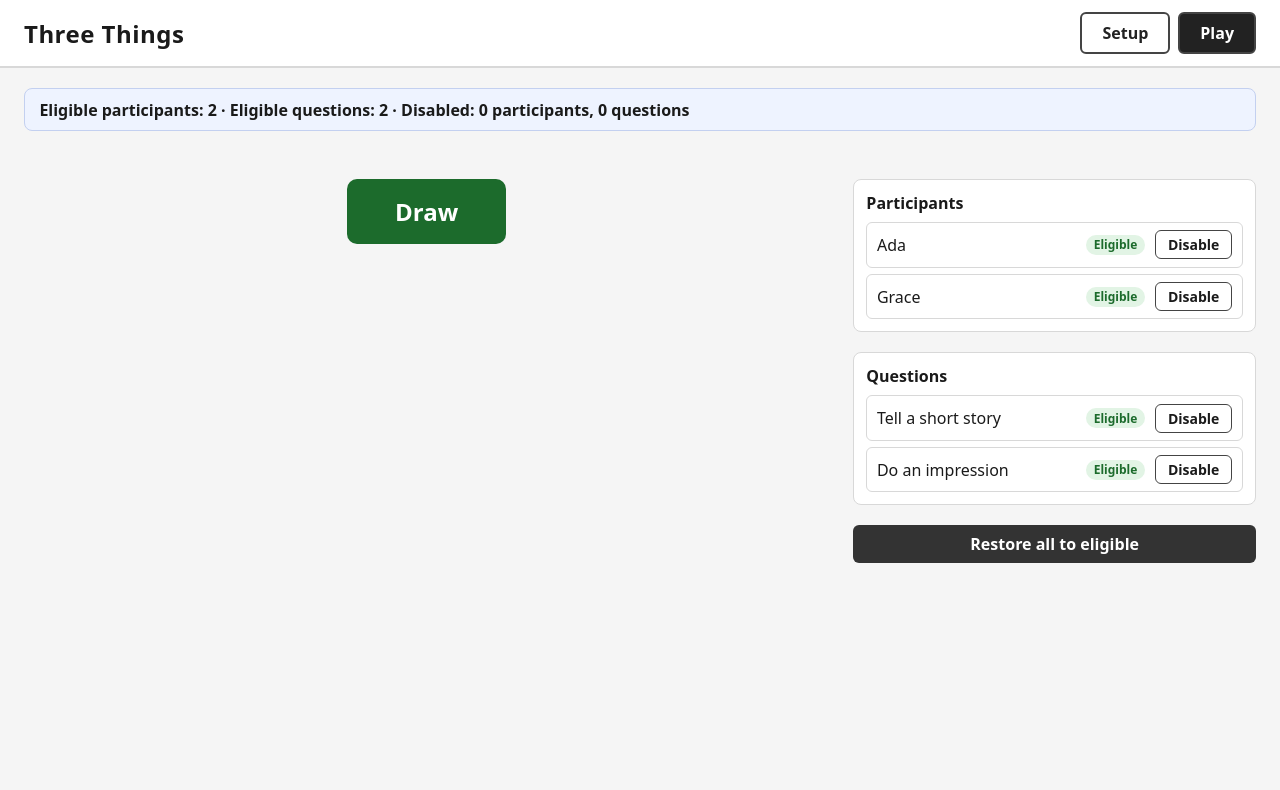
Test case: timing settings flow › rejects an out-of-range animation time and keeps the last valid value (V4, FR-006)
Click the button "Setup" at (1125, 33), box [1080, 12, 1170, 54]
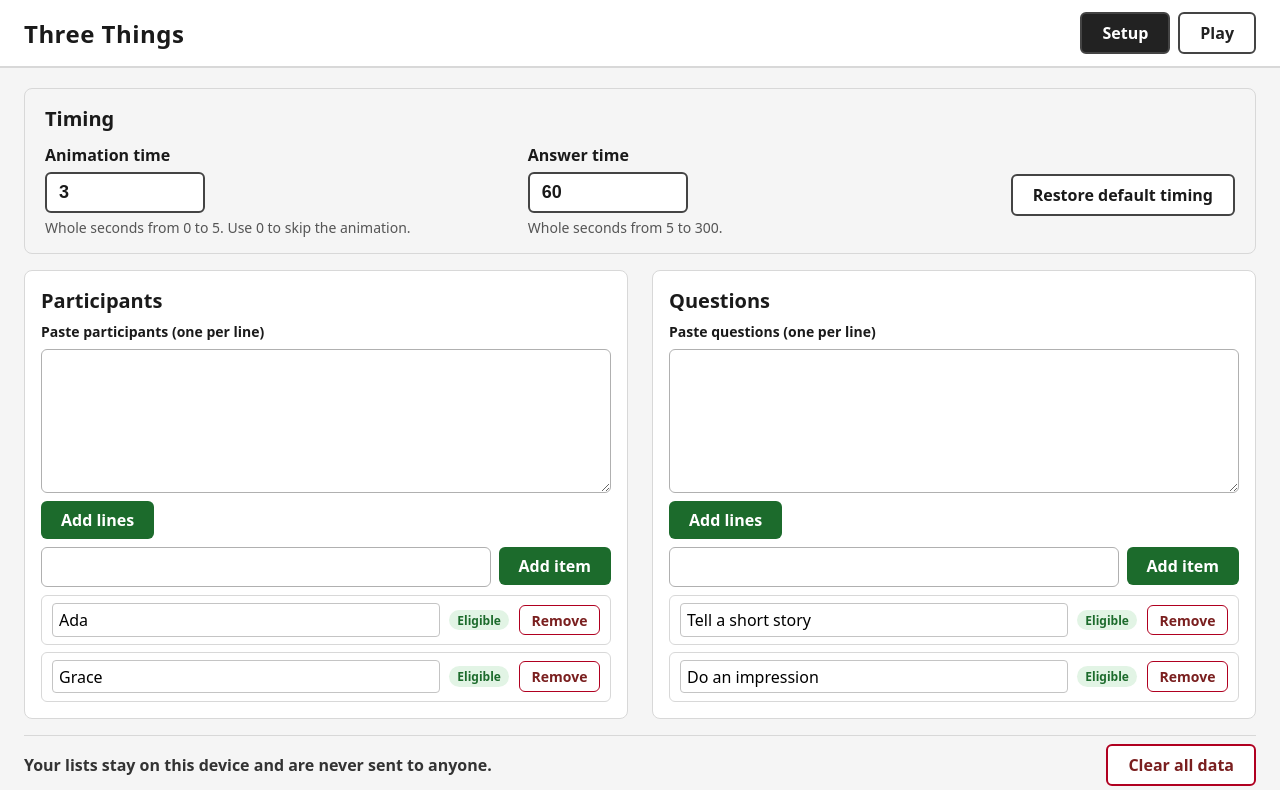
Replace the text in the field labelled "Animation time" with "0" at (125, 192), box [45, 172, 205, 213]
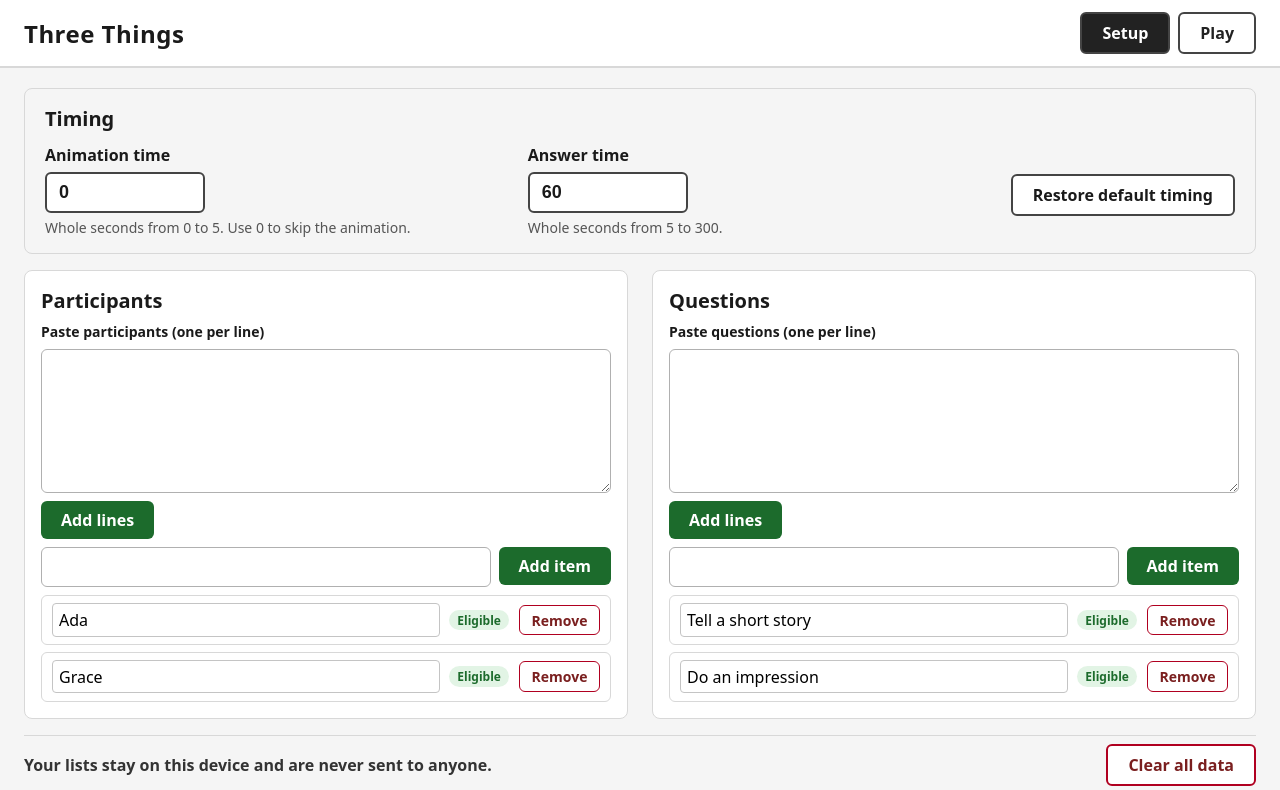
Replace the text in the field labelled "Animation time" with "9" at (125, 192), box [45, 172, 205, 213]
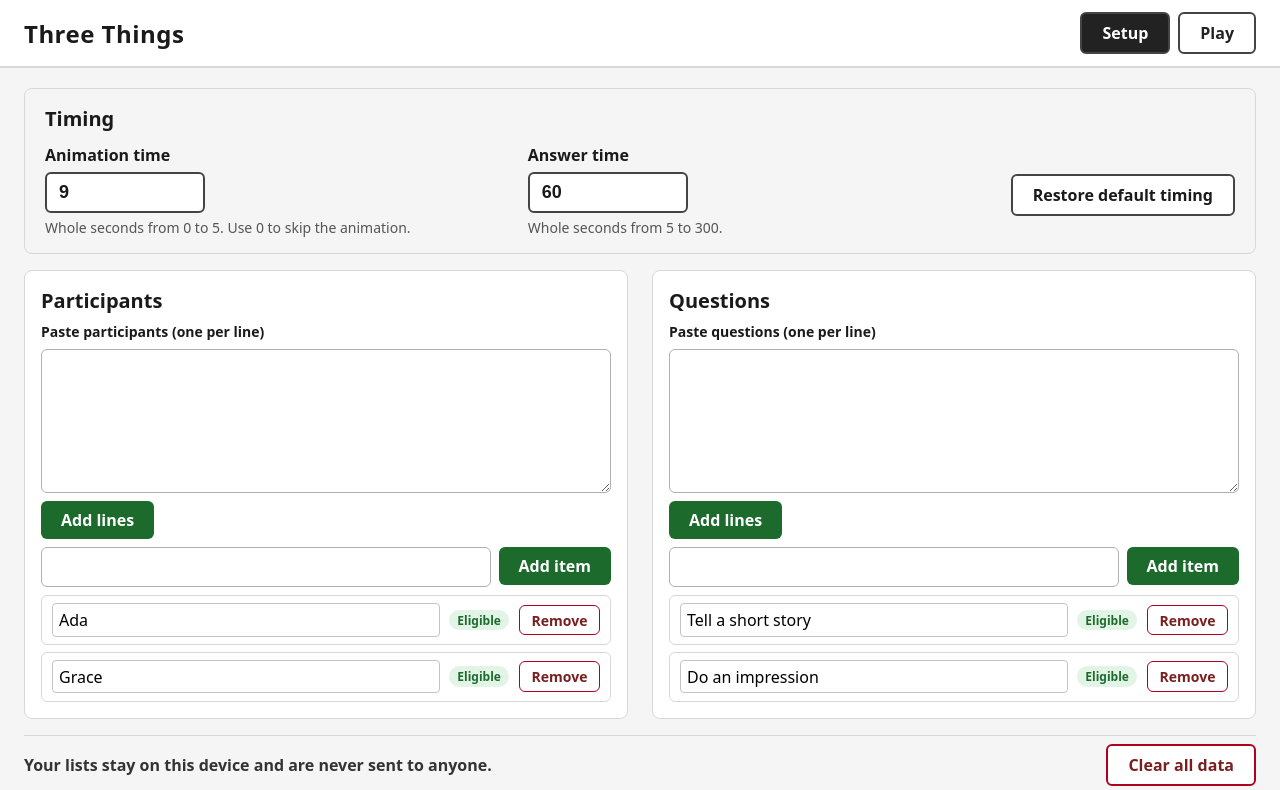
Leave the field labelled "Animation time", box [45, 172, 205, 213]
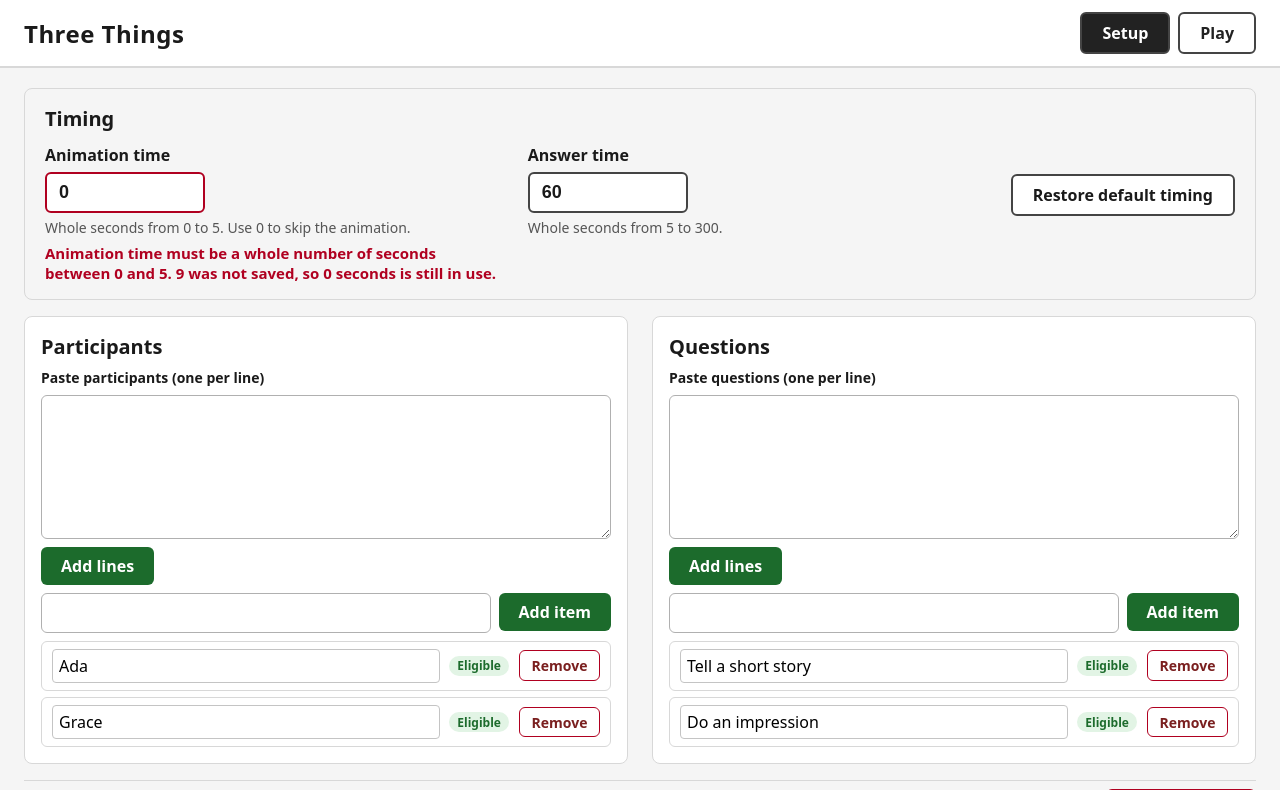
Expected: the message shows "Animation time", [45, 243, 496, 283]
Expected: the message shows "between 0 and 5", [45, 243, 496, 283]
Expected: the message shows "0 seconds is still in use", [45, 243, 496, 283]
